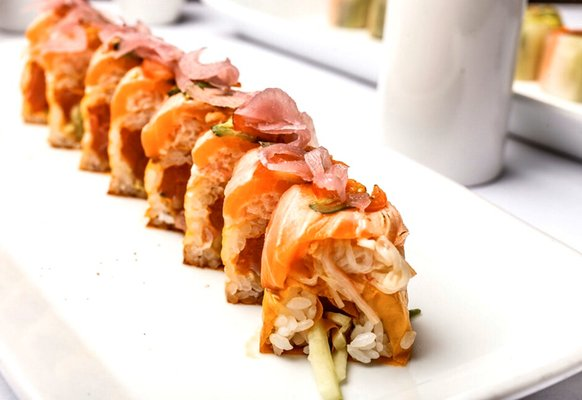pizza: (379, 1, 526, 189)
